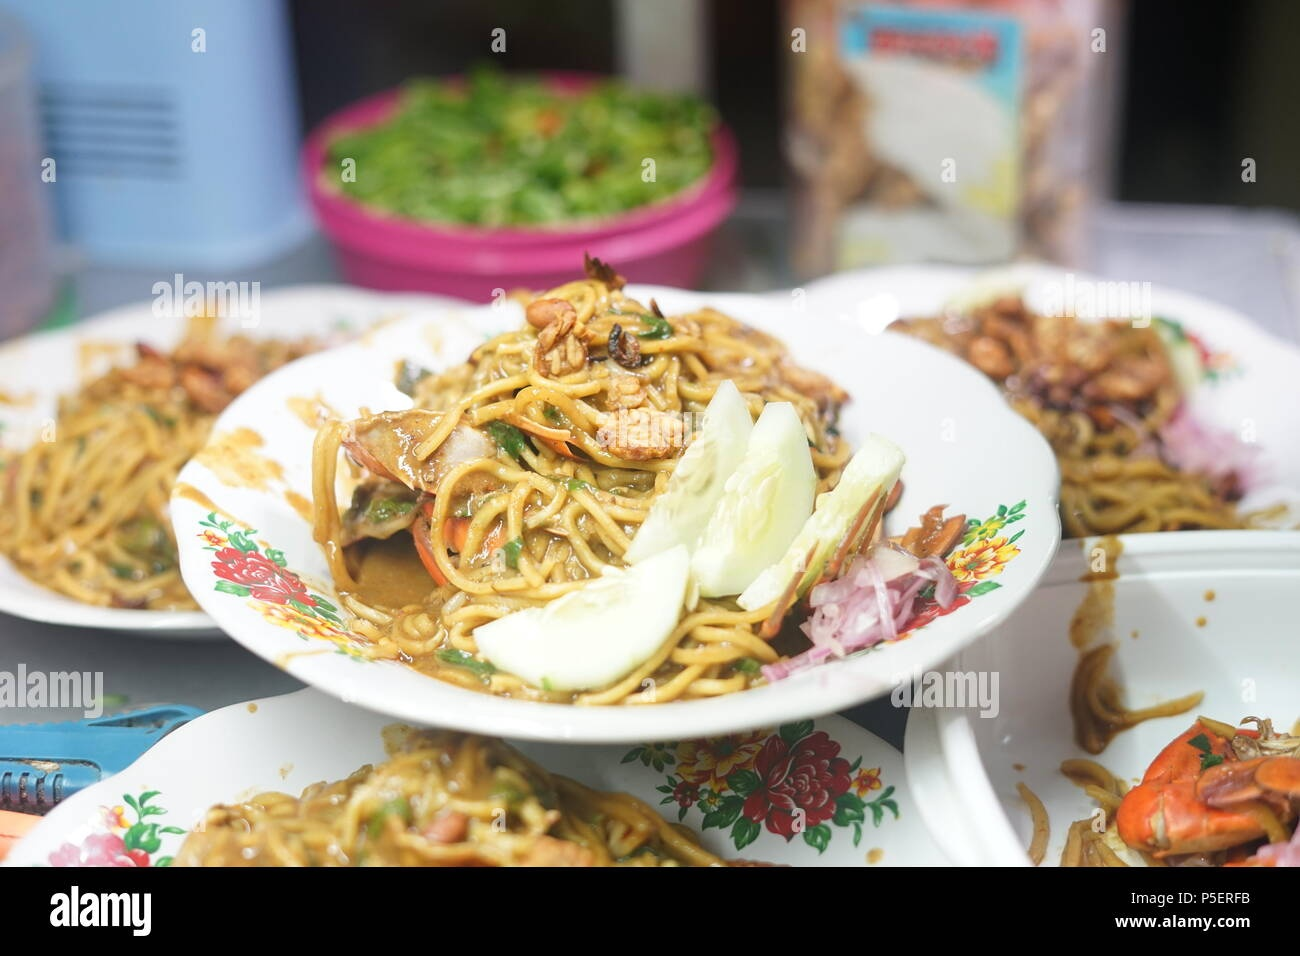mie_aceh: (321, 273, 939, 702)
